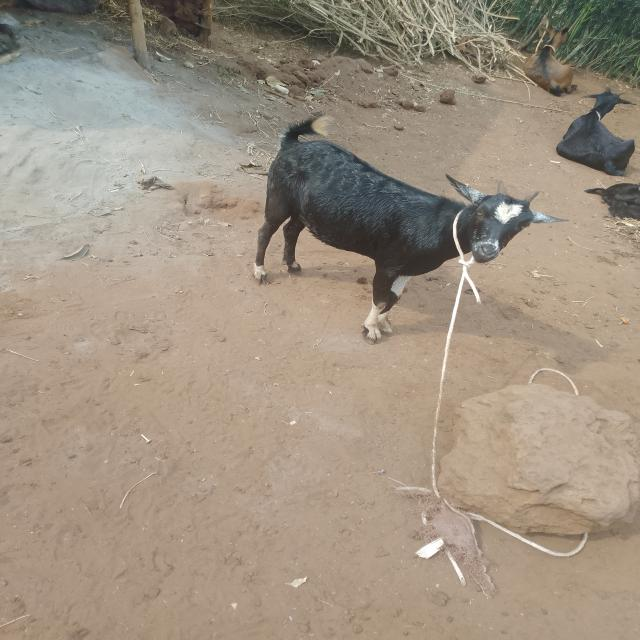goat: (191, 86, 611, 373)
